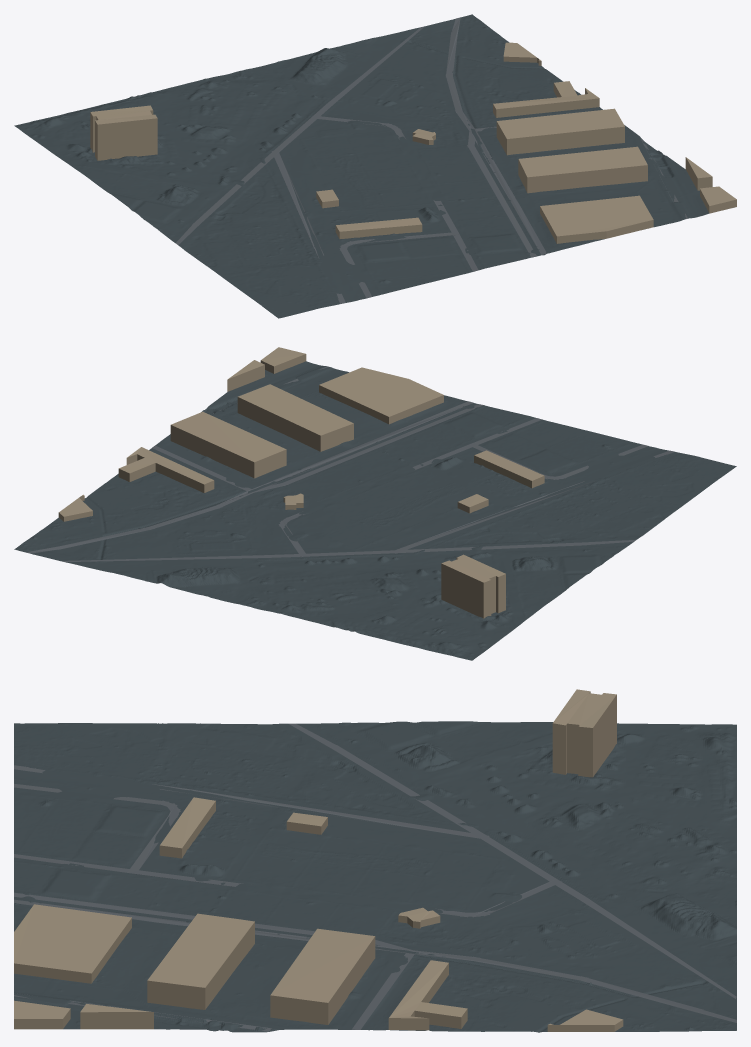
Rendered from epsg26910-1446-10872.lod0.glb.
3 renders of one model, top to bottom at view 1: azimuth 30°, elevation 25°; view 2: azimuth 150°, elevation 25°; view 3: azimuth 270°, elevation 25°, orthographic. The views are drawn at different scales.
Visible parts, largest first — view 1: epsg26910-1446-10872-lod0; view 2: epsg26910-1446-10872-lod0; view 3: epsg26910-1446-10872-lod0.
Boxes of the visible parts, bbox=[...] form: epsg26910-1446-10872-lod0: bbox=[14, 14, 736, 318]; epsg26910-1446-10872-lod0: bbox=[14, 347, 736, 660]; epsg26910-1446-10872-lod0: bbox=[14, 689, 736, 1032].
Size of the model in its own units: 384 by 32.44 by 384.
